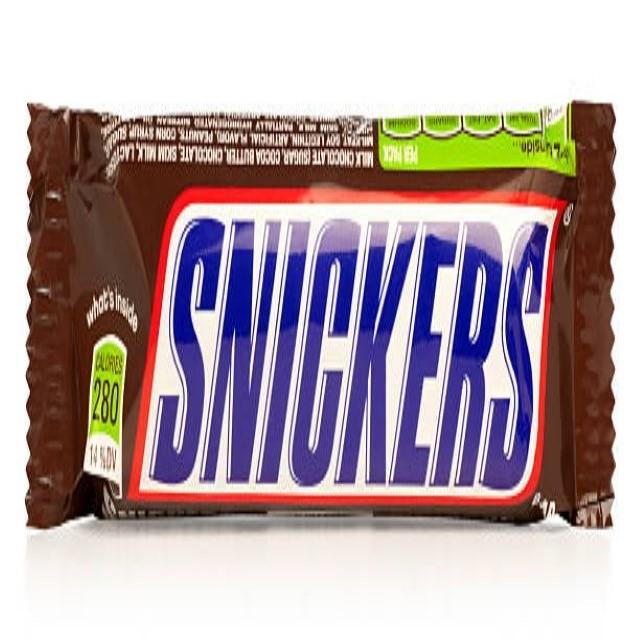snickers_chocolate: (30, 106, 610, 512)
